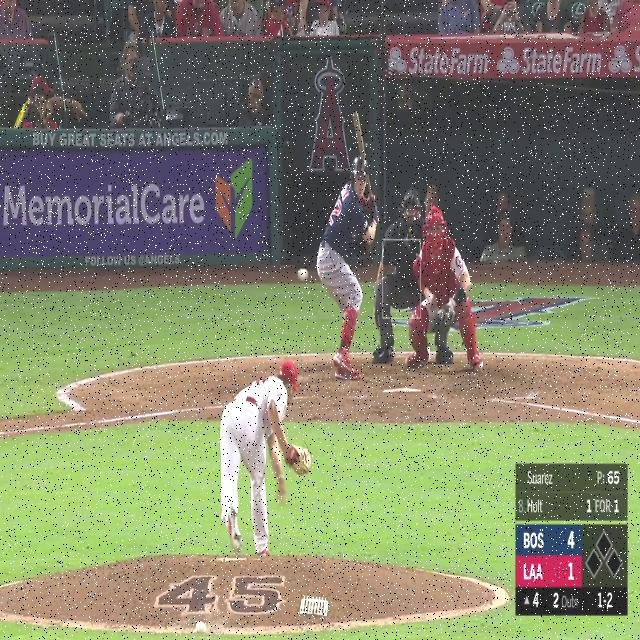baseball: (298, 268, 308, 282)
